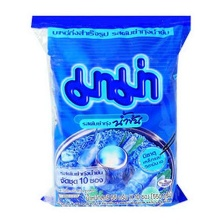snack: (23, 4, 197, 211)
